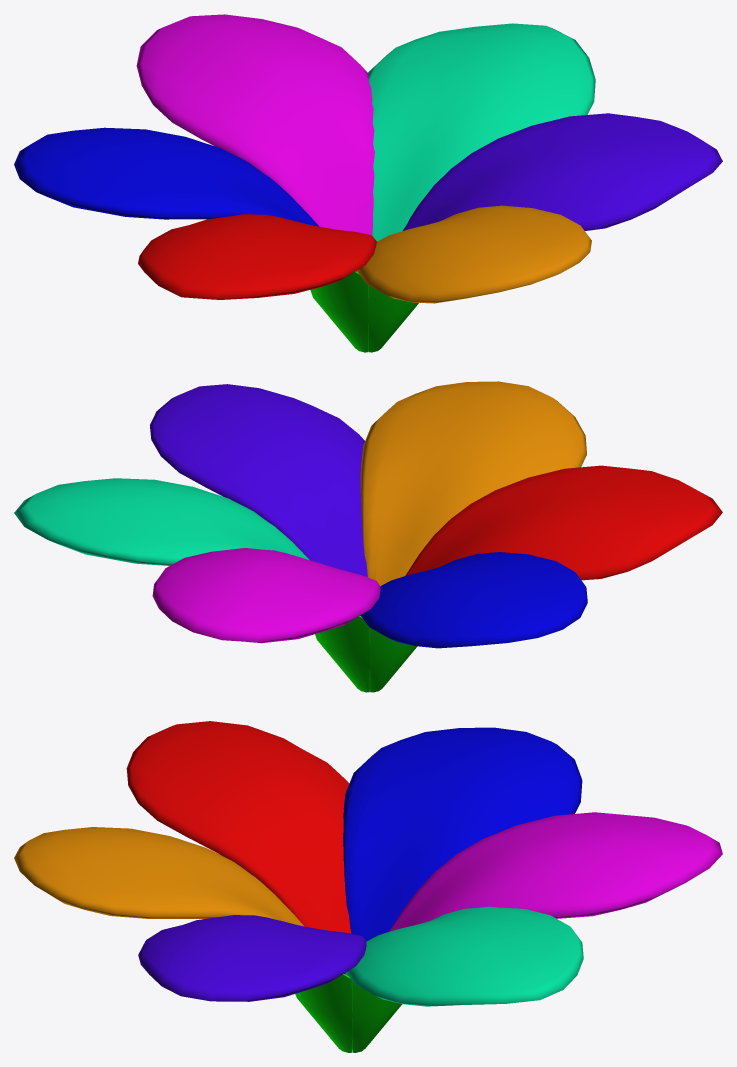
The model's file is M_FlowerHead01.fbx.
3 renders of one model, top to bottom at view 1: azimuth 30°, elevation 25°; view 2: azimuth 150°, elevation 25°; view 3: azimuth 270°, elevation 25°, orthographic. The views are drawn at different scales.
Parts seen in each view (by area): view 1: MD_FlowerHead; view 2: MD_FlowerHead; view 3: MD_FlowerHead.
Part boxes in pixels (x1,y1,x2,y2): MD_FlowerHead: [14, 14, 722, 352]; MD_FlowerHead: [14, 381, 722, 692]; MD_FlowerHead: [14, 721, 722, 1052].
Size of the model in its own units: 1101 by 391 by 1186.
